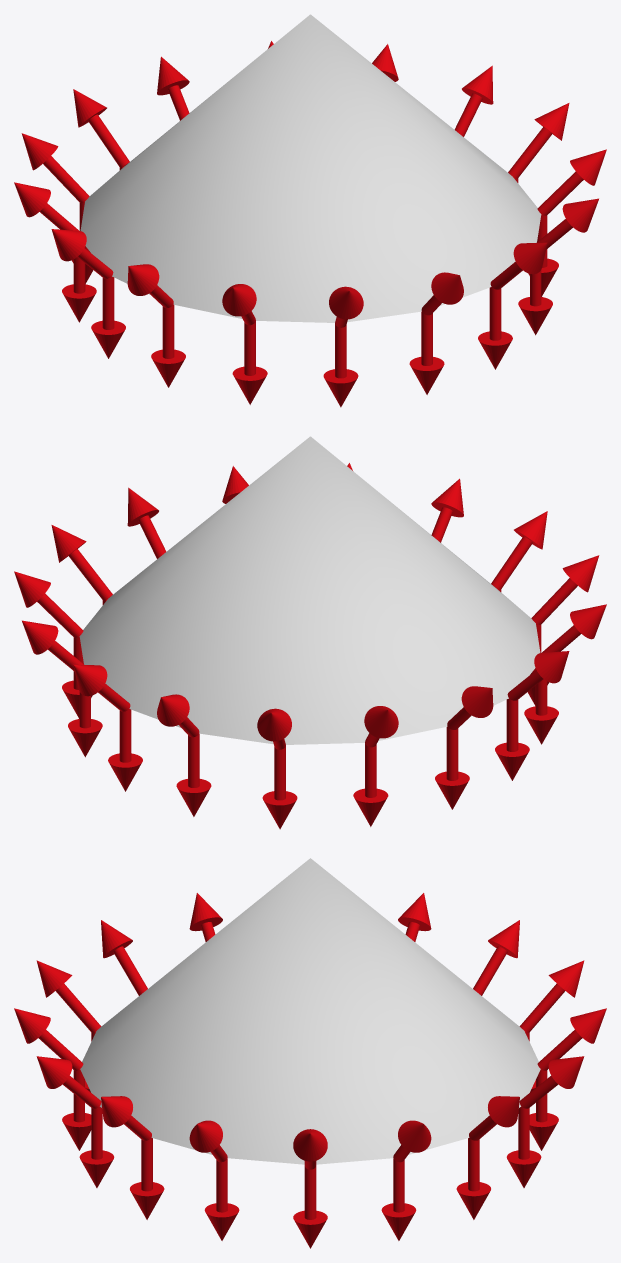
File: cone-mapped-normals.glb
3 renders of one model, top to bottom at view 1: azimuth 30°, elevation 25°; view 2: azimuth 150°, elevation 25°; view 3: azimuth 270°, elevation 25°, orthographic.
Parts seen in each view (by area): view 1: cone-mapped-normals; view 2: cone-mapped-normals; view 3: cone-mapped-normals.
Part boxes in pixels (<box>): cone-mapped-normals: <box>14,14,606,407</box>; cone-mapped-normals: <box>14,436,606,829</box>; cone-mapped-normals: <box>14,858,606,1248</box>.
Size of the model in its own units: 2.57 by 1.4 by 2.57.
